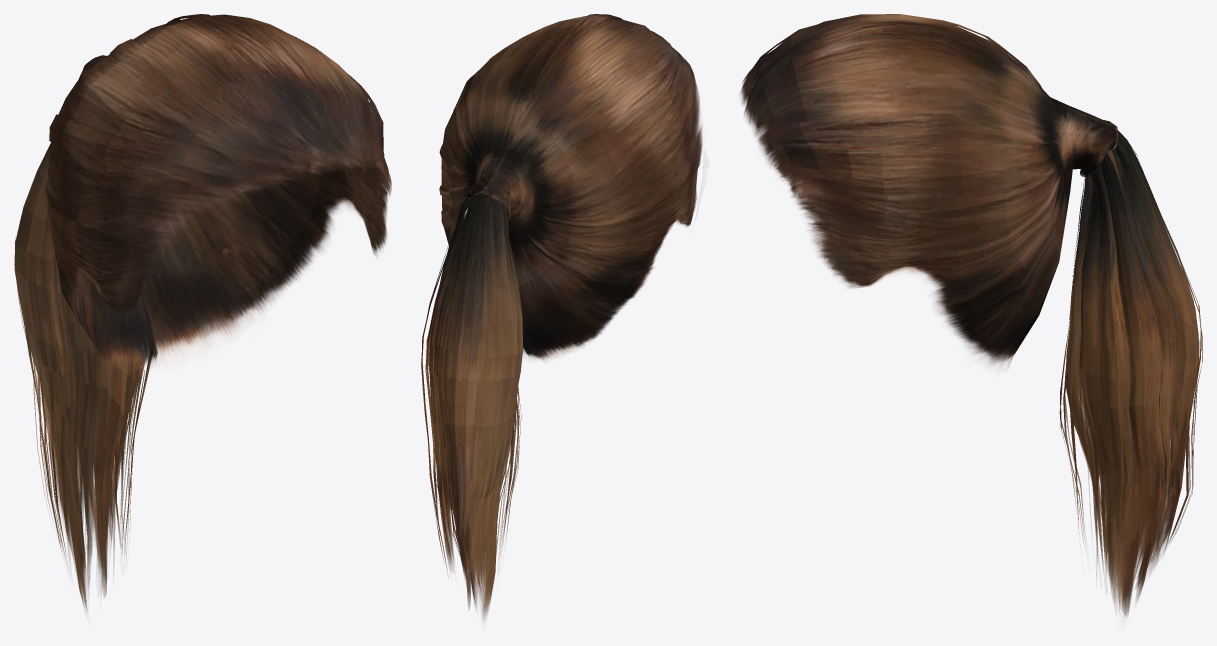
Rendered from ponytail01.glb.
The picture shows the model from 3 angles, left to right: view 1: azimuth 30°, elevation 25°; view 2: azimuth 150°, elevation 25°; view 3: azimuth 270°, elevation 25°; orthographic projection. The views are drawn at different scales.
Parts seen in each view (by area): view 1: MakeHuman_ponytail01; view 2: MakeHuman_ponytail01; view 3: MakeHuman_ponytail01.
Part boxes in pixels (x1,y1,x2,y2): MakeHuman_ponytail01: (14, 14, 391, 611); MakeHuman_ponytail01: (421, 14, 702, 621); MakeHuman_ponytail01: (740, 14, 1202, 617).
Size of the model in its own units: 0.1535 by 0.3642 by 0.2504.
Materials: 1 (1 with a texture image).
